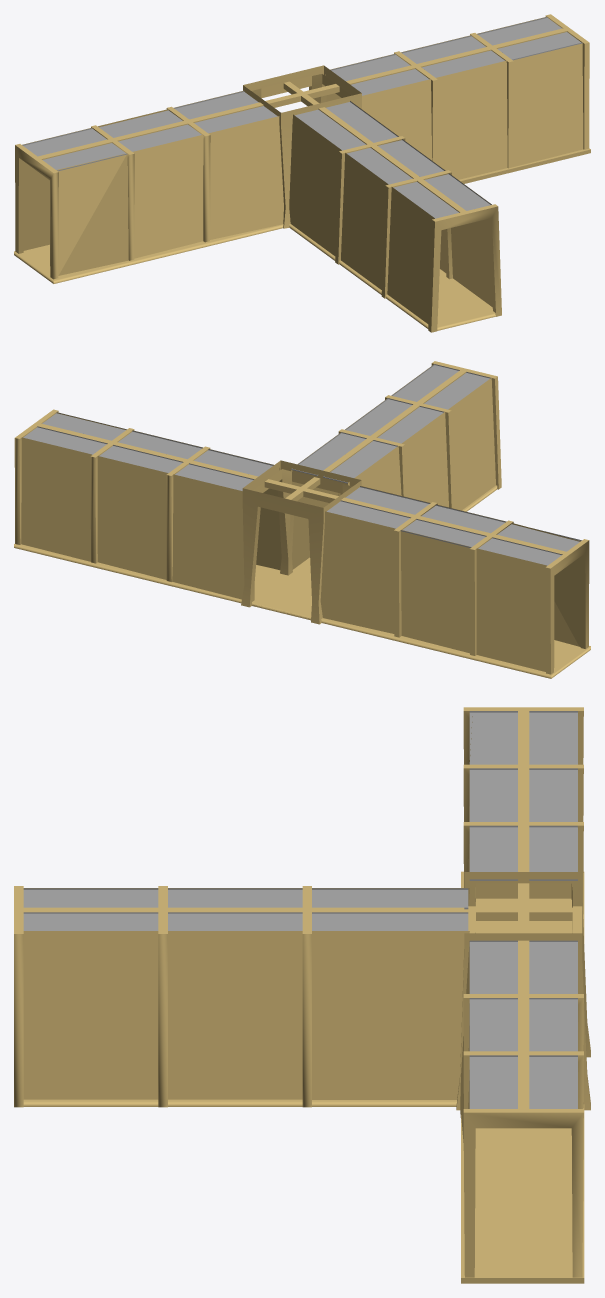
The model's file is Gallerywerew.fbx.
The picture shows the model from 3 angles, top to bottom: view 1: azimuth 30°, elevation 25°; view 2: azimuth 150°, elevation 25°; view 3: azimuth 270°, elevation 25°; orthographic projection. The views are drawn at different scales.
Visible parts, largest first — view 1: Concrete_Bare, Concrete_Simple, celling, floor; view 2: Concrete_Bare, Concrete_Simple, celling, floor; view 3: Concrete_Bare, celling, Concrete_Simple, floor.
Part boxes in pixels (bbox=[...]): Concrete_Bare: bbox=[22, 16, 583, 323]; Concrete_Simple: bbox=[15, 14, 589, 332]; celling: bbox=[22, 17, 582, 218]; floor: bbox=[14, 148, 590, 330]; Concrete_Bare: bbox=[21, 364, 580, 671]; Concrete_Simple: bbox=[14, 361, 589, 674]; celling: bbox=[23, 364, 581, 565]; floor: bbox=[14, 485, 590, 678]; Concrete_Bare: bbox=[23, 716, 583, 1142]; celling: bbox=[23, 711, 577, 1108]; Concrete_Simple: bbox=[14, 707, 590, 1277]; floor: bbox=[23, 871, 584, 1283].
Bounding box in the file's own units: 709 × 425 × 145.
